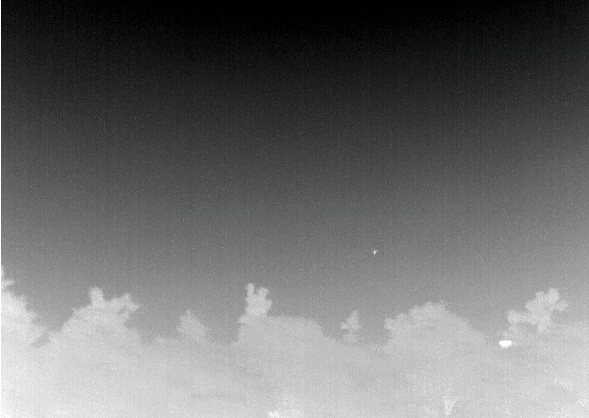dim target: (371, 249, 379, 255)
